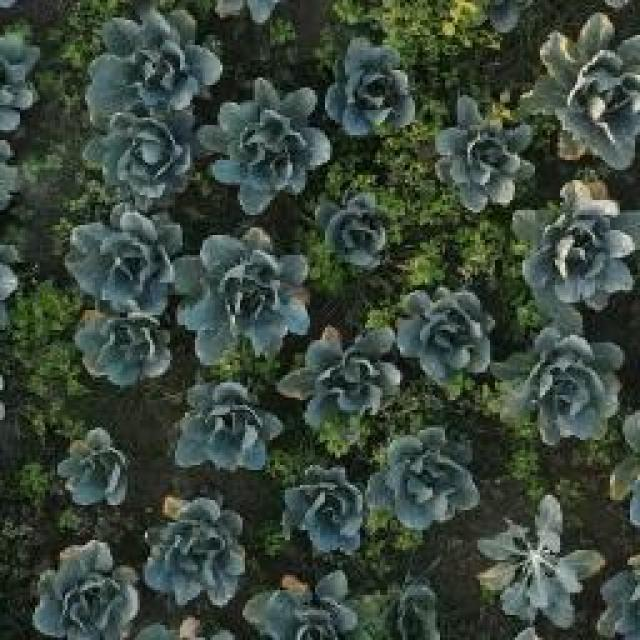cabbage: (174, 231, 308, 355), (512, 188, 640, 312), (480, 498, 599, 619), (530, 28, 640, 152), (95, 7, 207, 125), (501, 330, 621, 436), (287, 327, 404, 432), (218, 95, 324, 204), (364, 431, 486, 522), (146, 498, 245, 602), (33, 543, 139, 640), (64, 210, 168, 308), (434, 104, 536, 202), (397, 288, 495, 388), (175, 382, 285, 469), (90, 114, 196, 202), (329, 42, 420, 136), (249, 567, 364, 640), (284, 465, 369, 553), (75, 308, 173, 380), (317, 196, 397, 271), (59, 426, 130, 510)
